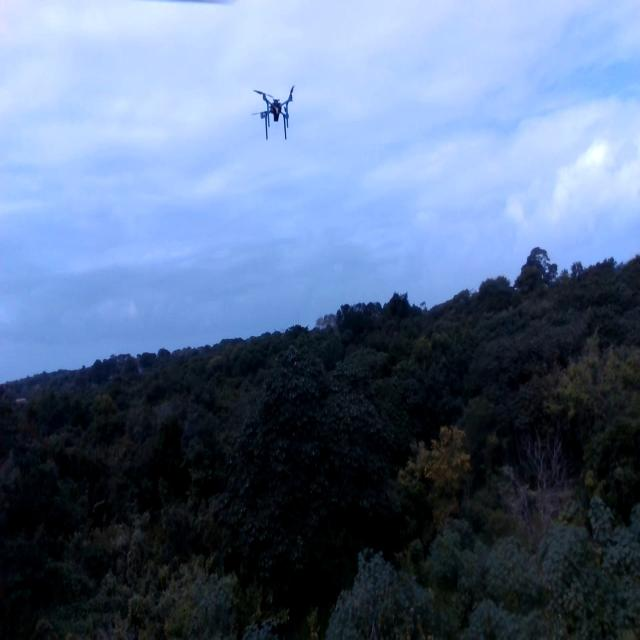-uav-: (248, 73, 302, 148)
